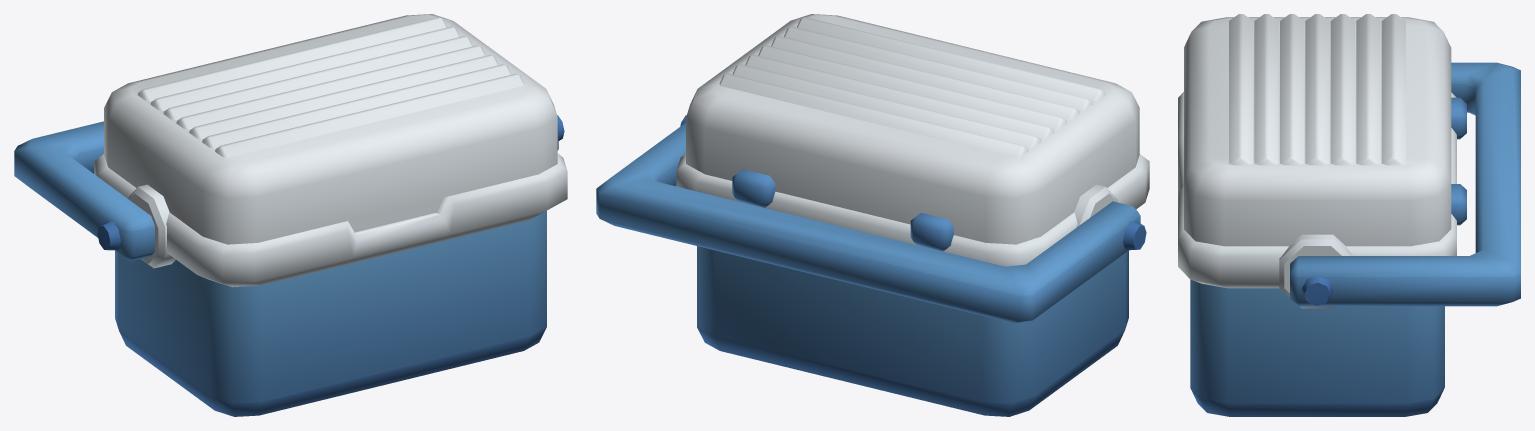
Rendered from cooler-uuN0k-qy.glb.
The picture shows the model from 3 angles, left to right: view 1: azimuth 30°, elevation 25°; view 2: azimuth 150°, elevation 25°; view 3: azimuth 270°, elevation 25°; orthographic projection.
Parts seen in each view (by area): view 1: cooler, cooler_lid, cooler_handle; view 2: cooler_lid, cooler, cooler_handle; view 3: cooler_lid, cooler, cooler_handle.
Boxes of the visible parts, x1,y1,x2,y2 form: cooler: (94, 153, 567, 416); cooler_lid: (104, 14, 557, 244); cooler_handle: (14, 115, 564, 261); cooler_lid: (686, 14, 1139, 244); cooler: (676, 153, 1149, 416); cooler_handle: (596, 115, 1146, 323); cooler_lid: (1184, 14, 1451, 246); cooler: (1178, 92, 1466, 416); cooler_handle: (1290, 62, 1520, 306).
Size of the model in its own units: 1.63 by 0.9041 by 1.08.
Materials: 1 (1 with a texture image).
